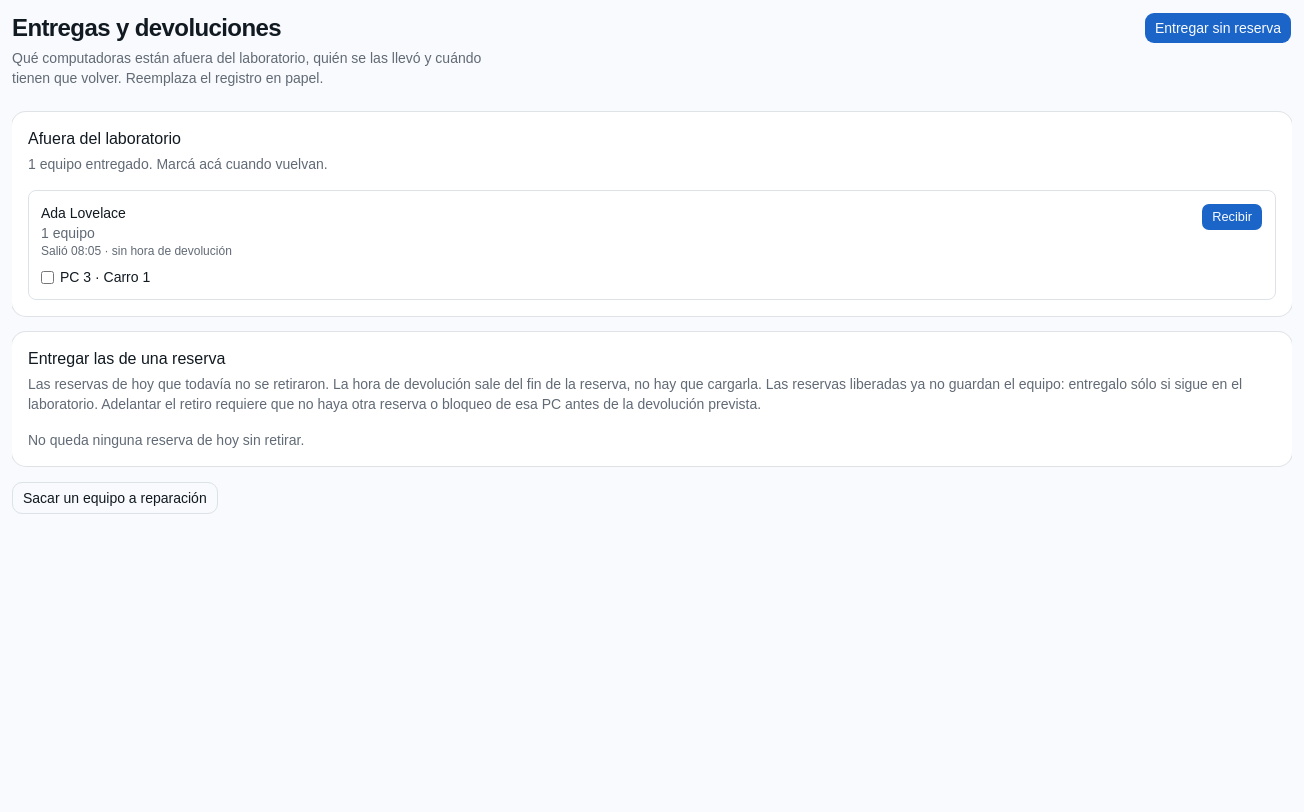
EntregasPage › avisa cuando alguna ya figuraba adentro
The width and height of the screenshot is (1304, 812).
Click the button with aria-label "Recibir 1 equipo de Ada Lovelace": (1232, 217) [1201, 203, 1263, 231]
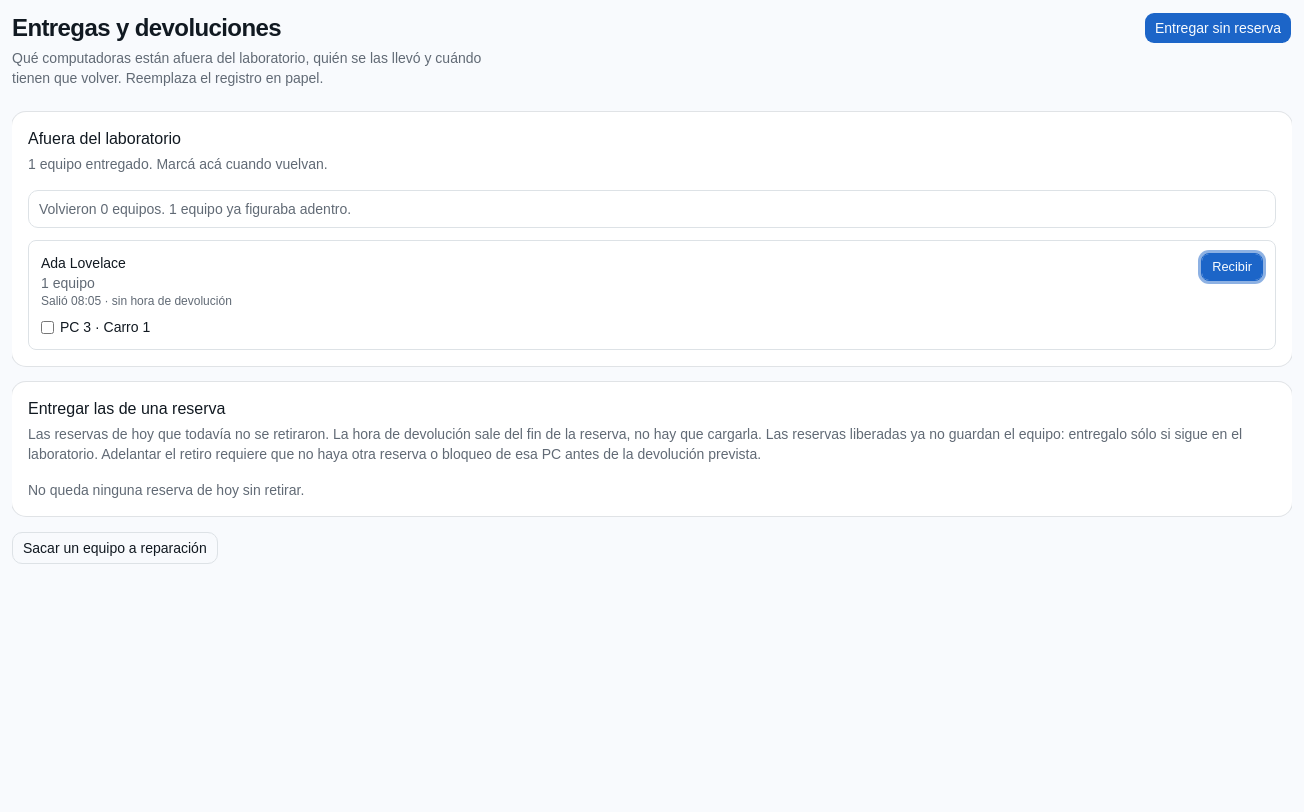
Now the text "Volvieron 0 equipos. 1 equipo ya figuraba adentro." is shown, box [39, 201, 351, 217]
